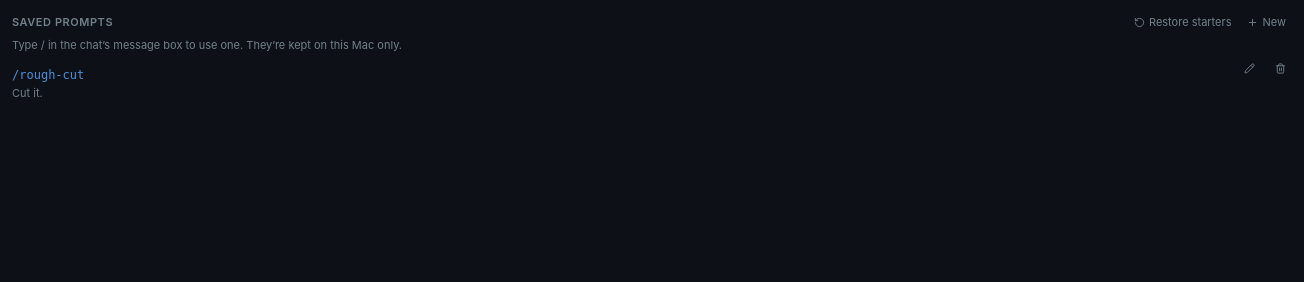
Test: Settings → Saved prompts (Phase 8h) › edits a prompt in place, and Escape leaves it as it was
This screenshot has width=1304, height=282.
Click the button named "Edit /rough-cut" at (1250, 68), box [1238,61,1261,76]
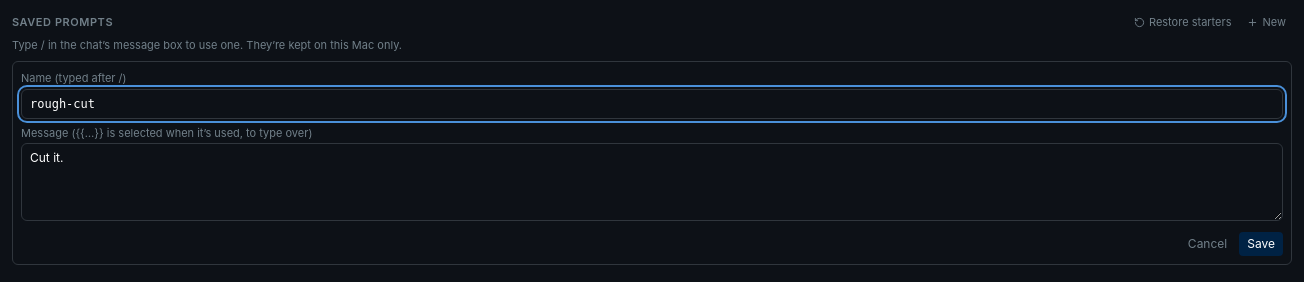
Replace the text in the text box labelled "Message ({{…}} is selected when it’s used, to type over)" with "Cut it tighter." at (652, 182), box [21,143,1283,221]
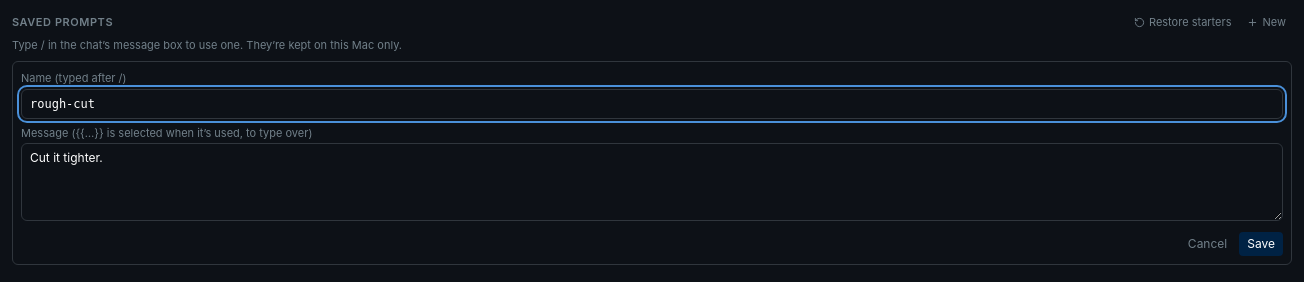
Press Escape in the text box labelled "Message ({{…}} is selected when it’s used, to type over)", box [21,143,1283,221]
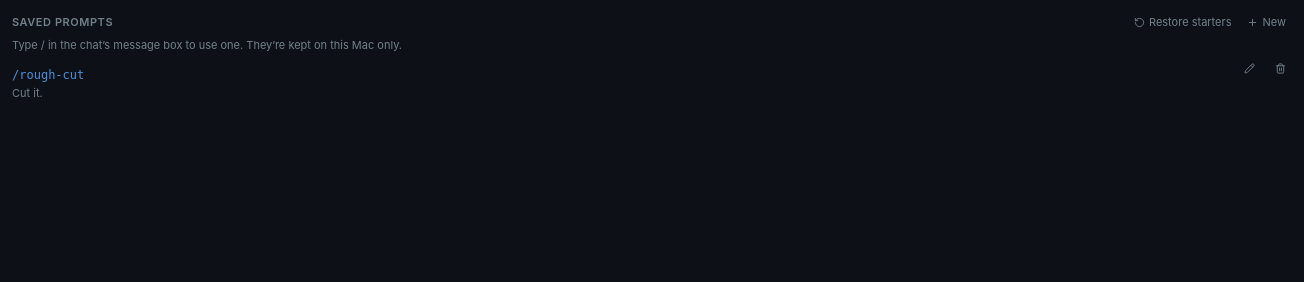
Expected: the text "Cut it." is shown, [12,86,43,100]
Click the button named "Edit /rough-cut" at (1250, 68), box [1238,61,1261,76]
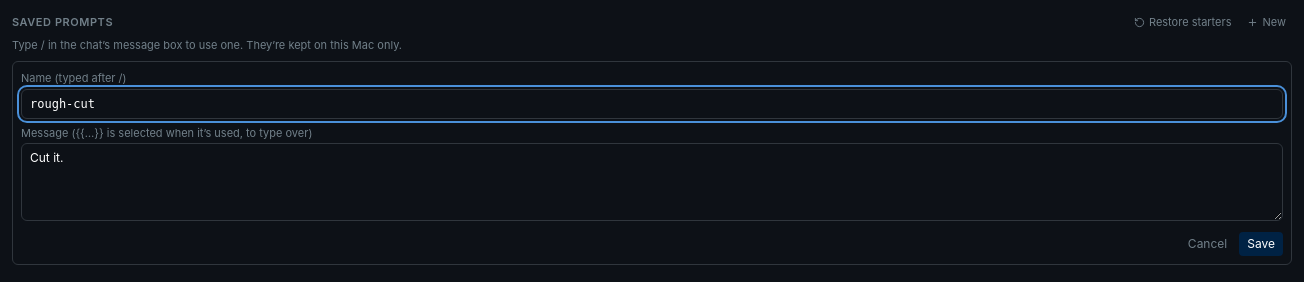
Replace the text in the text box labelled "Message ({{…}} is selected when it’s used, to type over)" with "Cut it tighter." at (652, 182), box [21,143,1283,221]
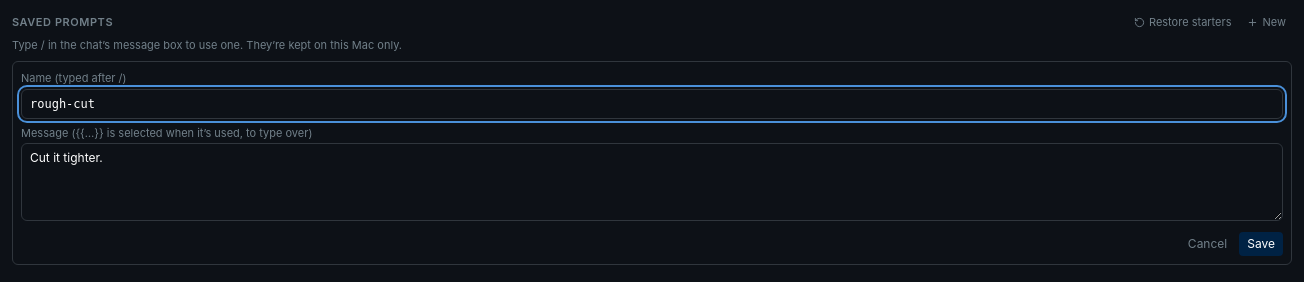
Click the button "Save" at (1261, 244), box [1239,232,1283,256]
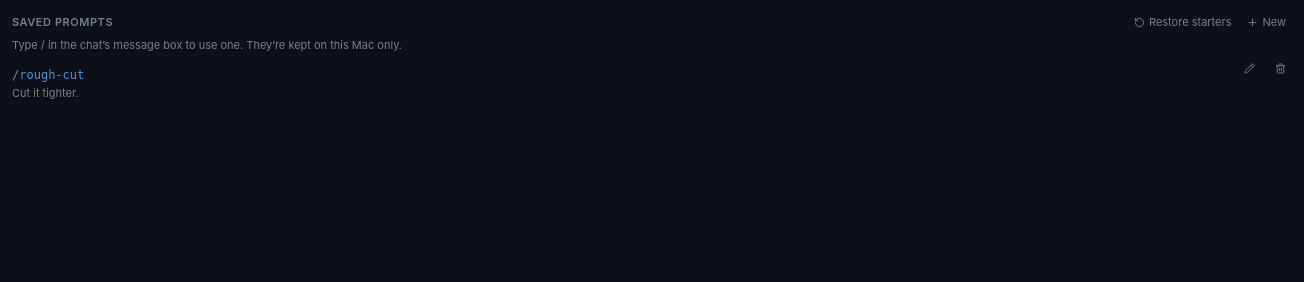
Expected: the text "Cut it tighter." is shown, [12,86,79,100]
